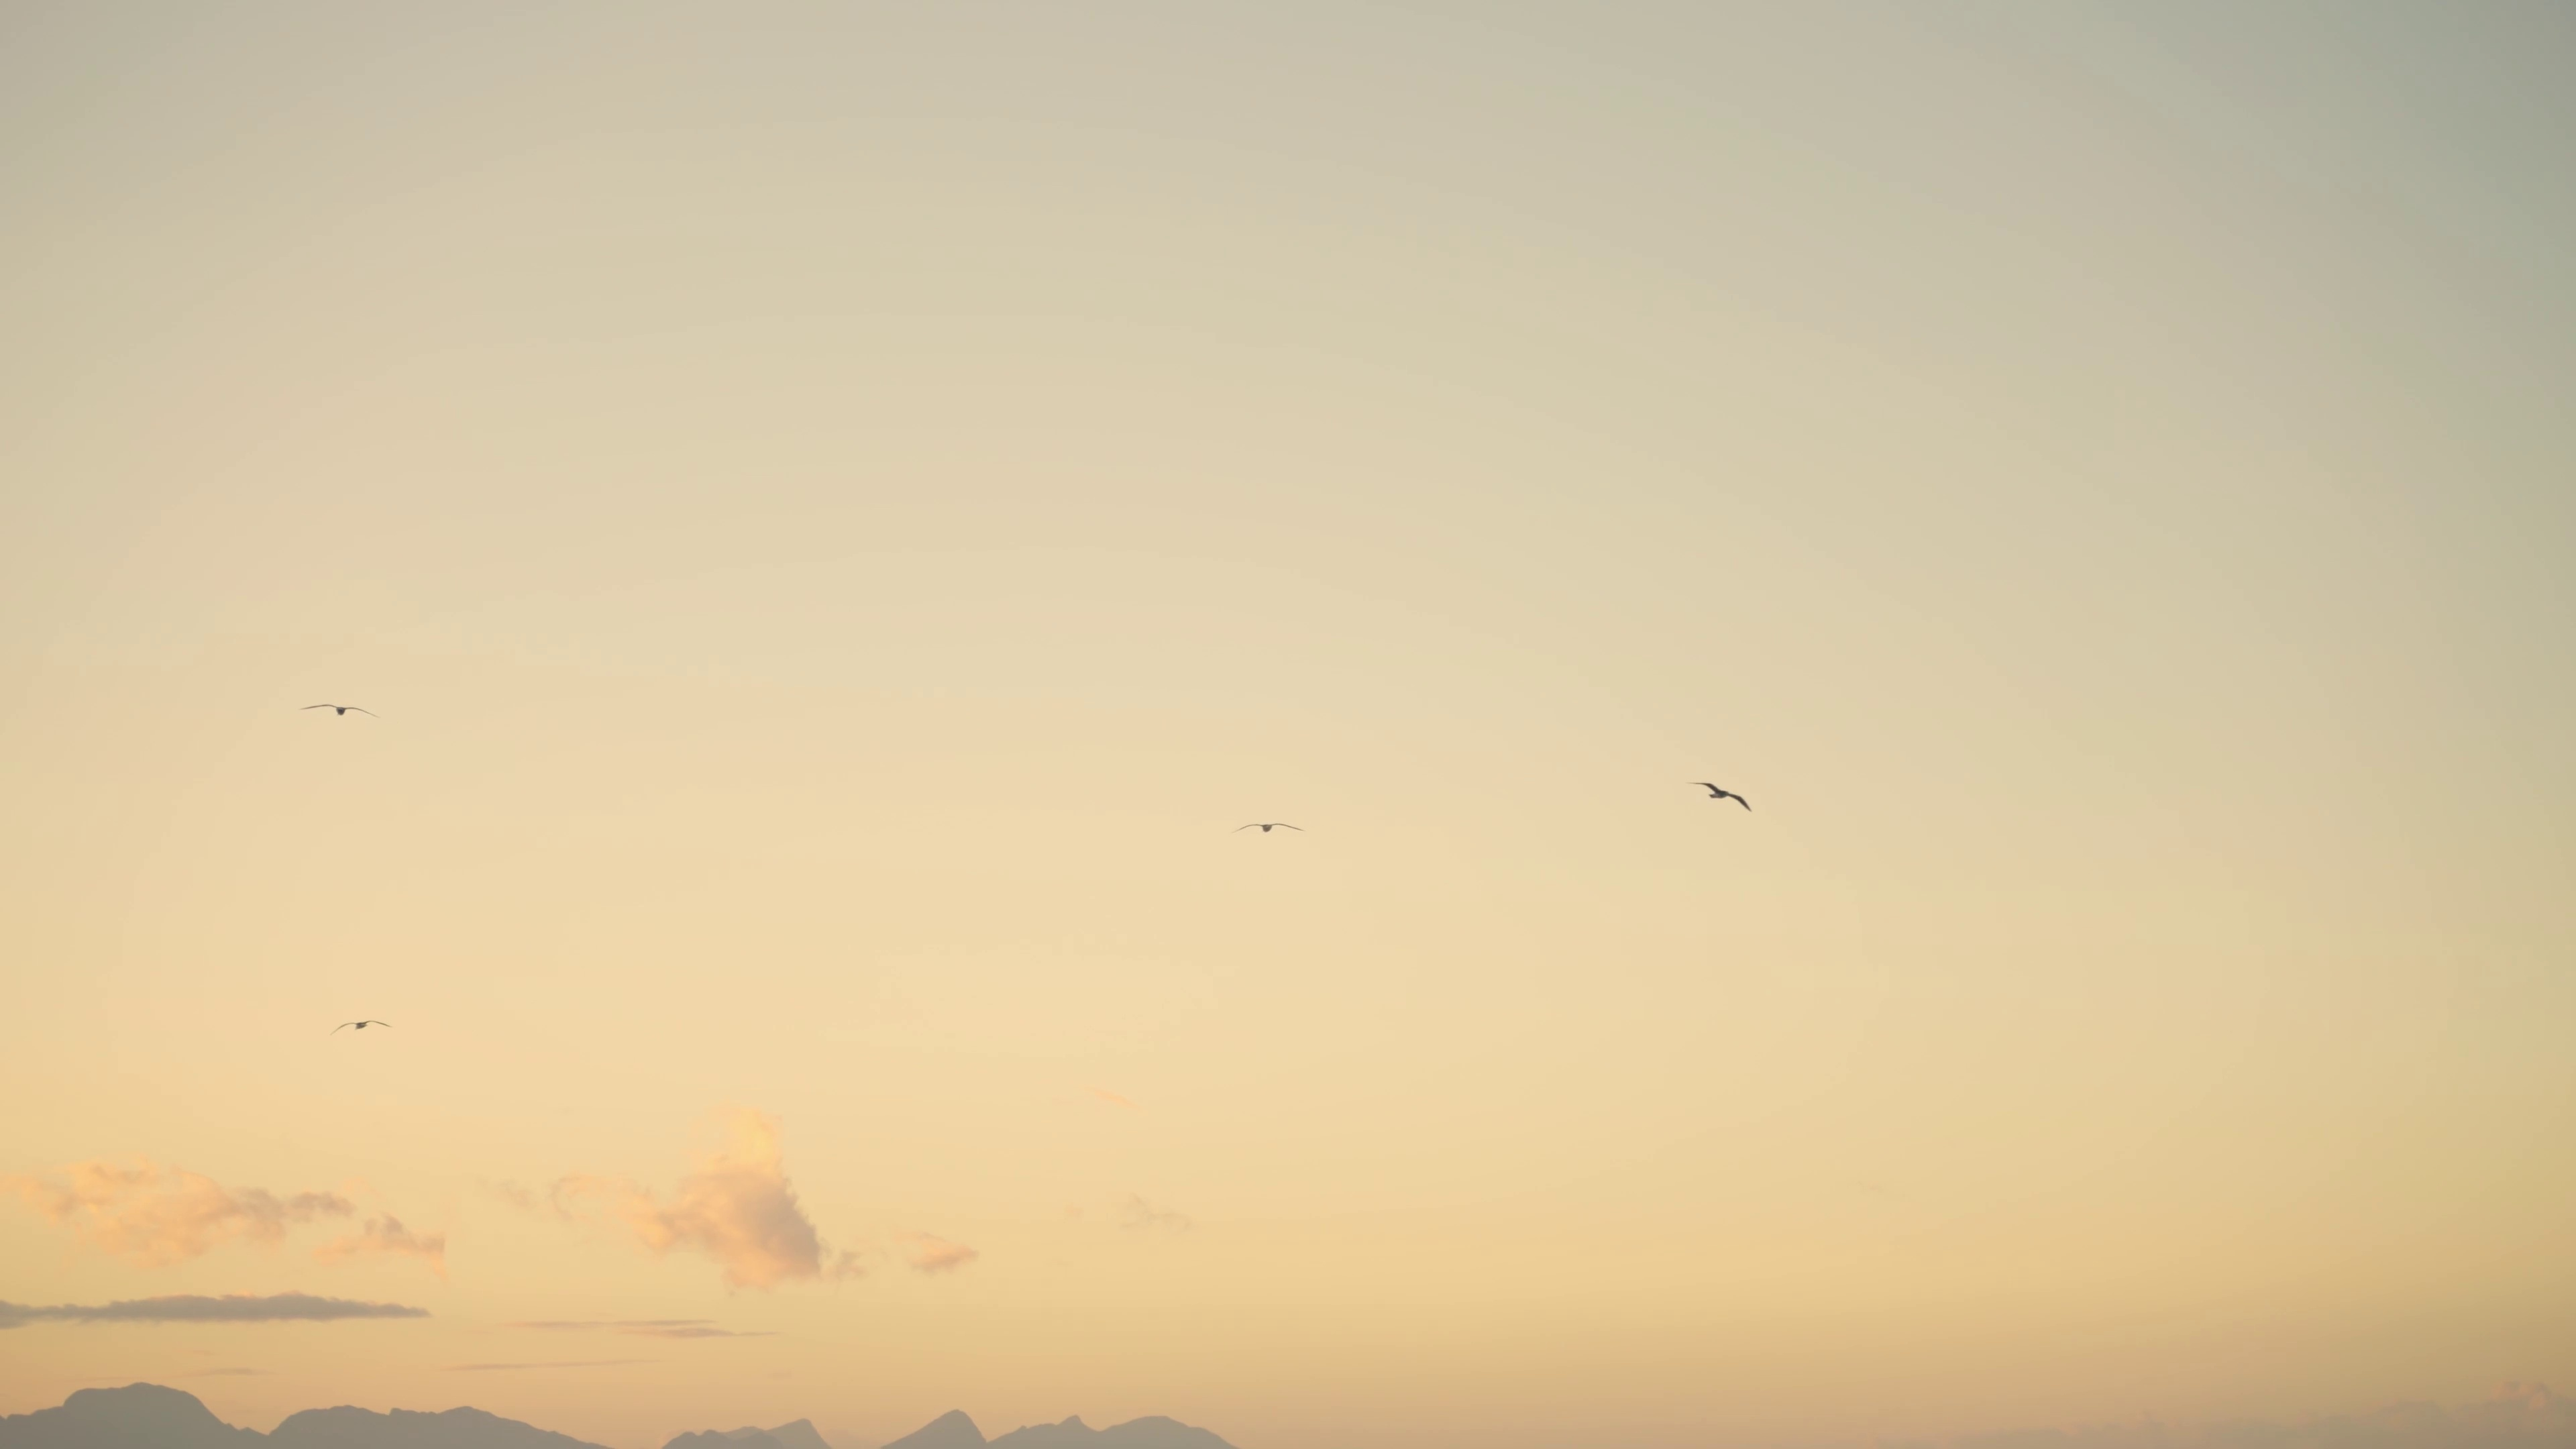bird: (1690, 780, 1752, 812), (303, 704, 379, 718), (1233, 821, 1304, 835), (331, 1019, 391, 1033)
